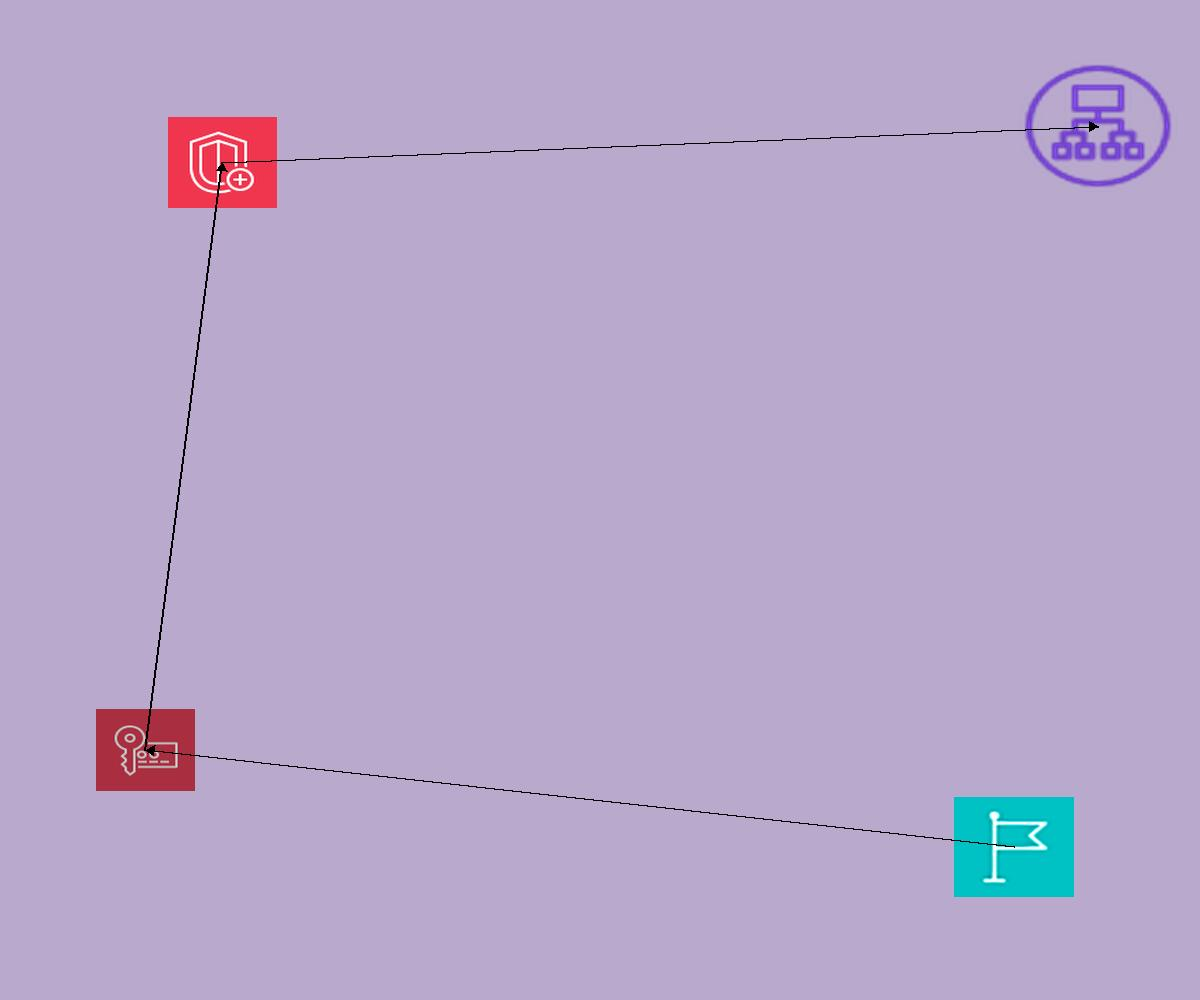AWS-Key-Management-Service: (96, 709, 195, 791)
AWS-Region: (954, 797, 1074, 897)
AWS-Res_Elastic-Load-Balancing_Application-Load-Balancer: (1019, 60, 1177, 192)
AWS-Shield: (168, 117, 277, 208)
